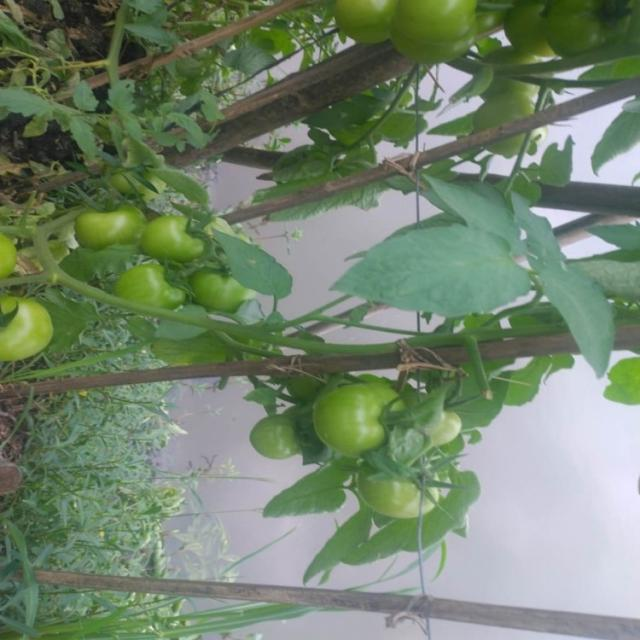tomato: (312, 365, 417, 453), (360, 447, 451, 527), (390, 1, 486, 70), (532, 4, 635, 60), (1, 286, 58, 372), (180, 265, 254, 323), (245, 394, 303, 467), (143, 213, 210, 269), (484, 74, 551, 130), (63, 199, 140, 243), (506, 5, 557, 67), (119, 260, 183, 309), (426, 398, 470, 449), (325, 1, 387, 33)
